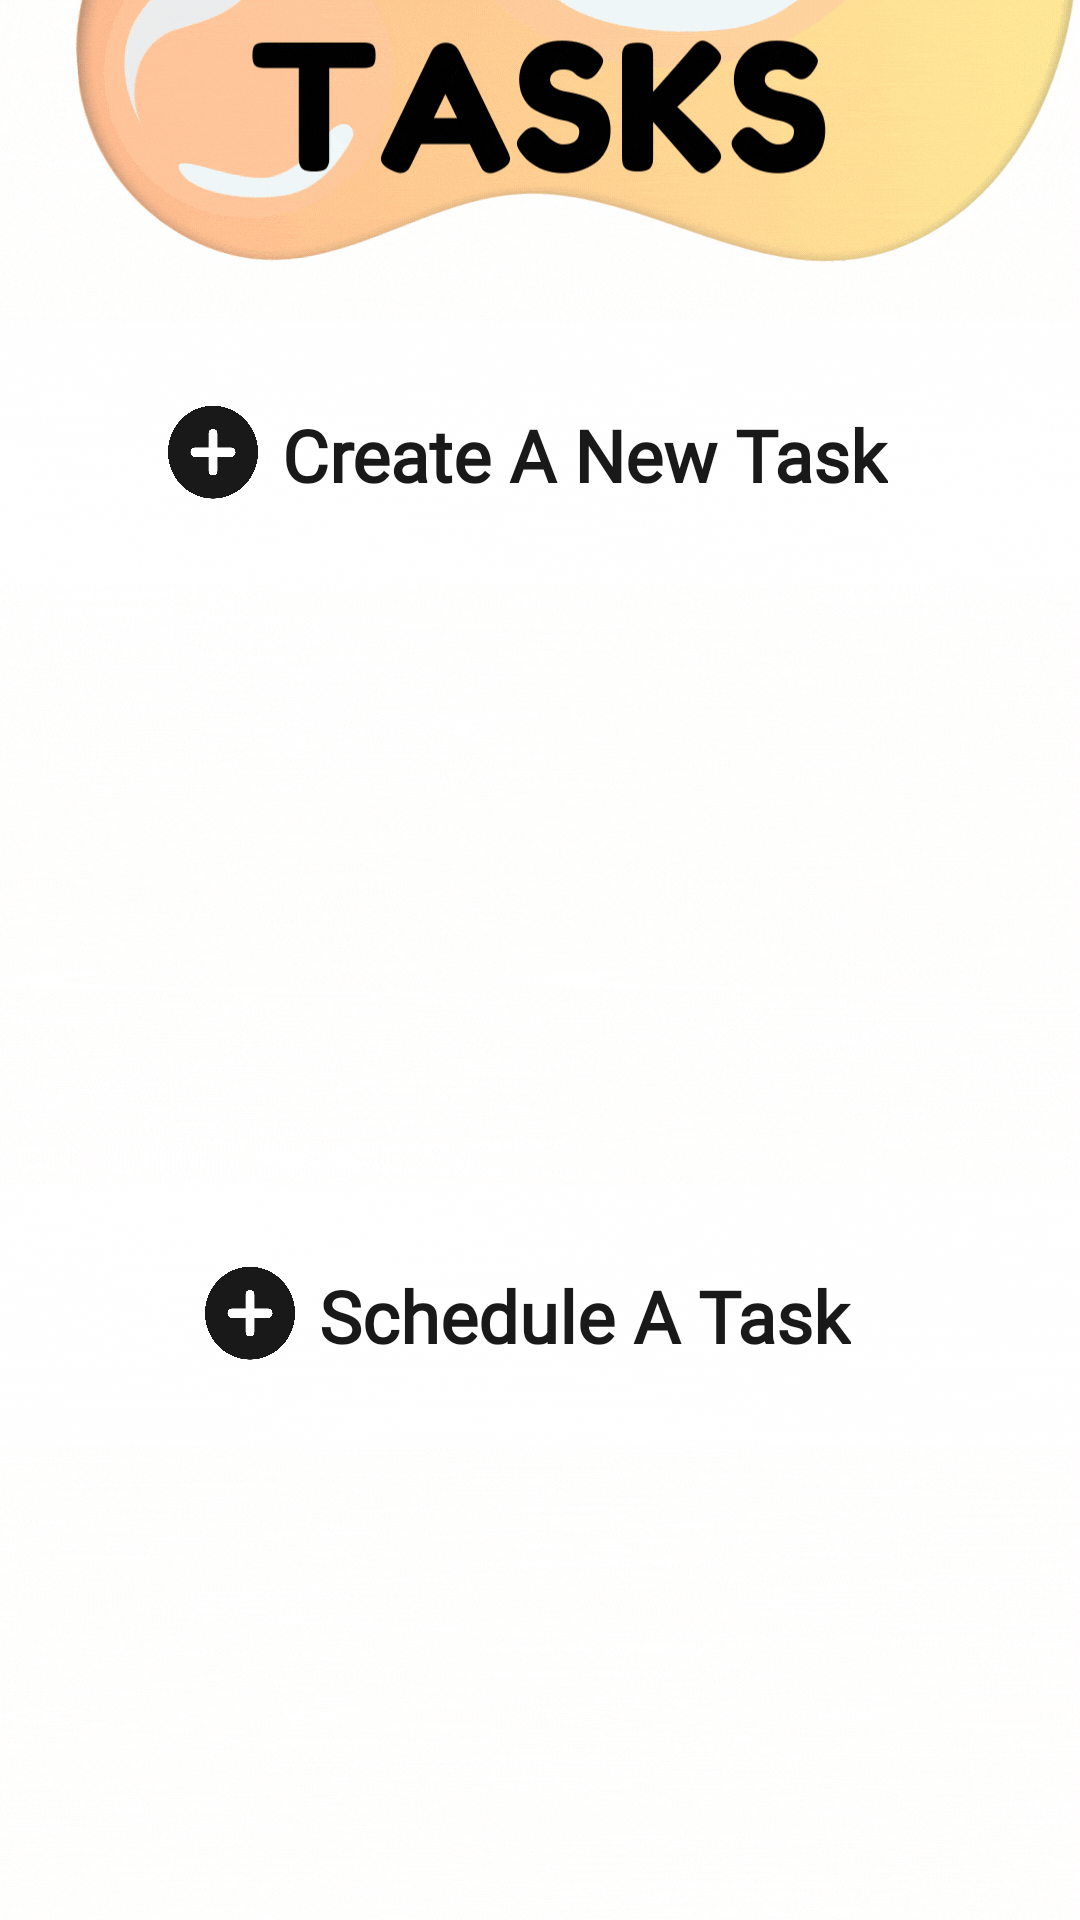

Point at icon controls on the screen. Image size 1080w x 1920h, points as [x,y].
Add a task: [213,452]
